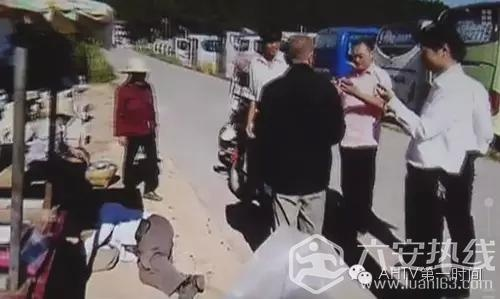falling: (22, 198, 213, 299)
